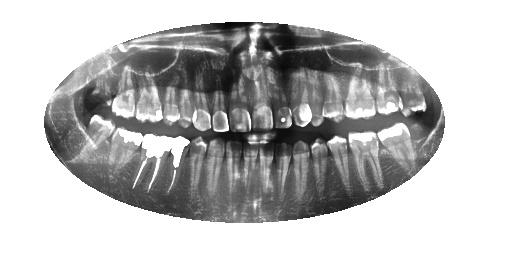i10healthy: (220, 134, 245, 215)
i11healthy: (201, 129, 227, 216)
i12healthy: (183, 131, 211, 210)
i13healthy: (162, 133, 193, 210)
i14healthy: (125, 130, 177, 201)
i15healthy: (102, 120, 147, 192)
i16healthy: (75, 104, 118, 171)
i1loss: (401, 111, 443, 158)
i2healthy: (370, 110, 426, 177)
i3healthy: (343, 125, 389, 199)
i4healthy: (325, 125, 356, 206)
i5healthy: (308, 133, 333, 209)
i6healthy: (290, 138, 313, 214)
i7decay: (268, 132, 293, 219)
i8decay: (255, 136, 277, 212)
i9healthy: (235, 131, 263, 214)
u10healthy: (209, 68, 233, 135)
u11healthy: (188, 59, 214, 137)
u12healthy: (176, 62, 200, 130)
u13healthy: (156, 65, 186, 128)
u14healthy: (132, 66, 166, 126)
u15healthy: (110, 58, 140, 122)
u16decay: (88, 61, 117, 114)
u1healthy: (390, 62, 433, 123)
u2healthy: (370, 59, 408, 124)
u3healthy: (334, 56, 380, 125)
u4healthy: (313, 63, 349, 127)
u5healthy: (293, 64, 327, 129)
u6healthy: (284, 64, 315, 130)
u7decay: (266, 67, 297, 133)
u8healthy: (249, 63, 276, 132)
u9decay: (227, 62, 254, 138)
